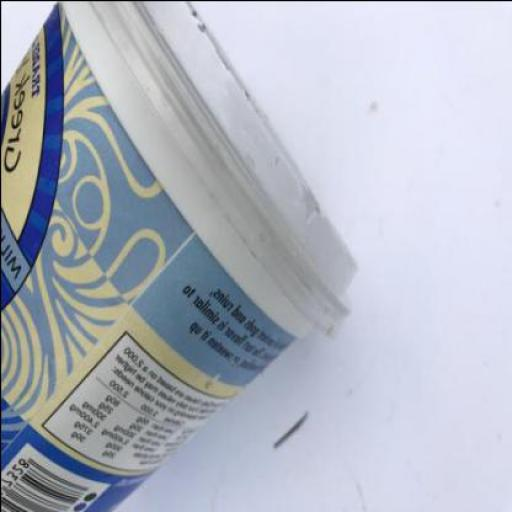plastic: (1, 1, 362, 511)
